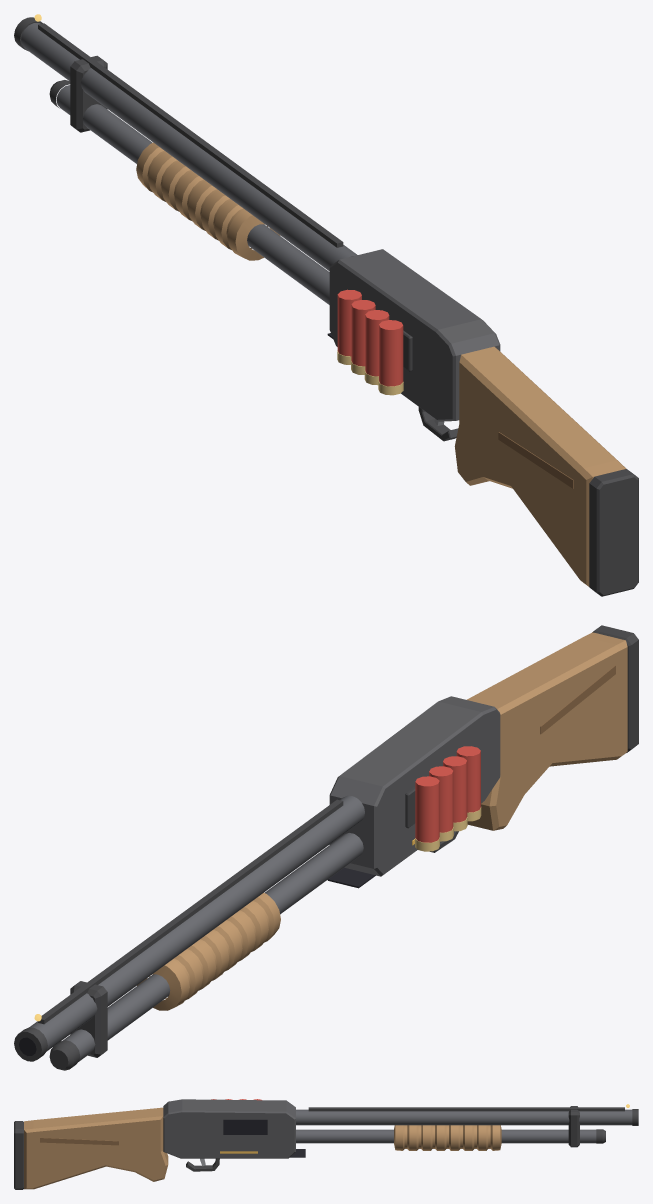
The model's file is shotgun.glb.
3 renders of one model, top to bottom at view 1: azimuth 30°, elevation 25°; view 2: azimuth 150°, elevation 25°; view 3: azimuth 270°, elevation 25°, orthographic. The views are drawn at different scales.
Visible parts, largest first — view 1: body, pump; view 2: body, pump; view 3: body, pump.
Boxes of the visible parts, left/top/right/bottom form: body: left=14, top=14, right=638, bottom=596; pump: left=136, top=142, right=280, bottom=260; body: left=14, top=625, right=638, bottom=1070; pump: left=137, top=893, right=280, bottom=1010; body: left=14, top=1099, right=638, bottom=1189; pump: left=394, top=1125, right=501, bottom=1150.
Bounding box in the file's own units: 0.072 × 0.1422 × 0.9884.
